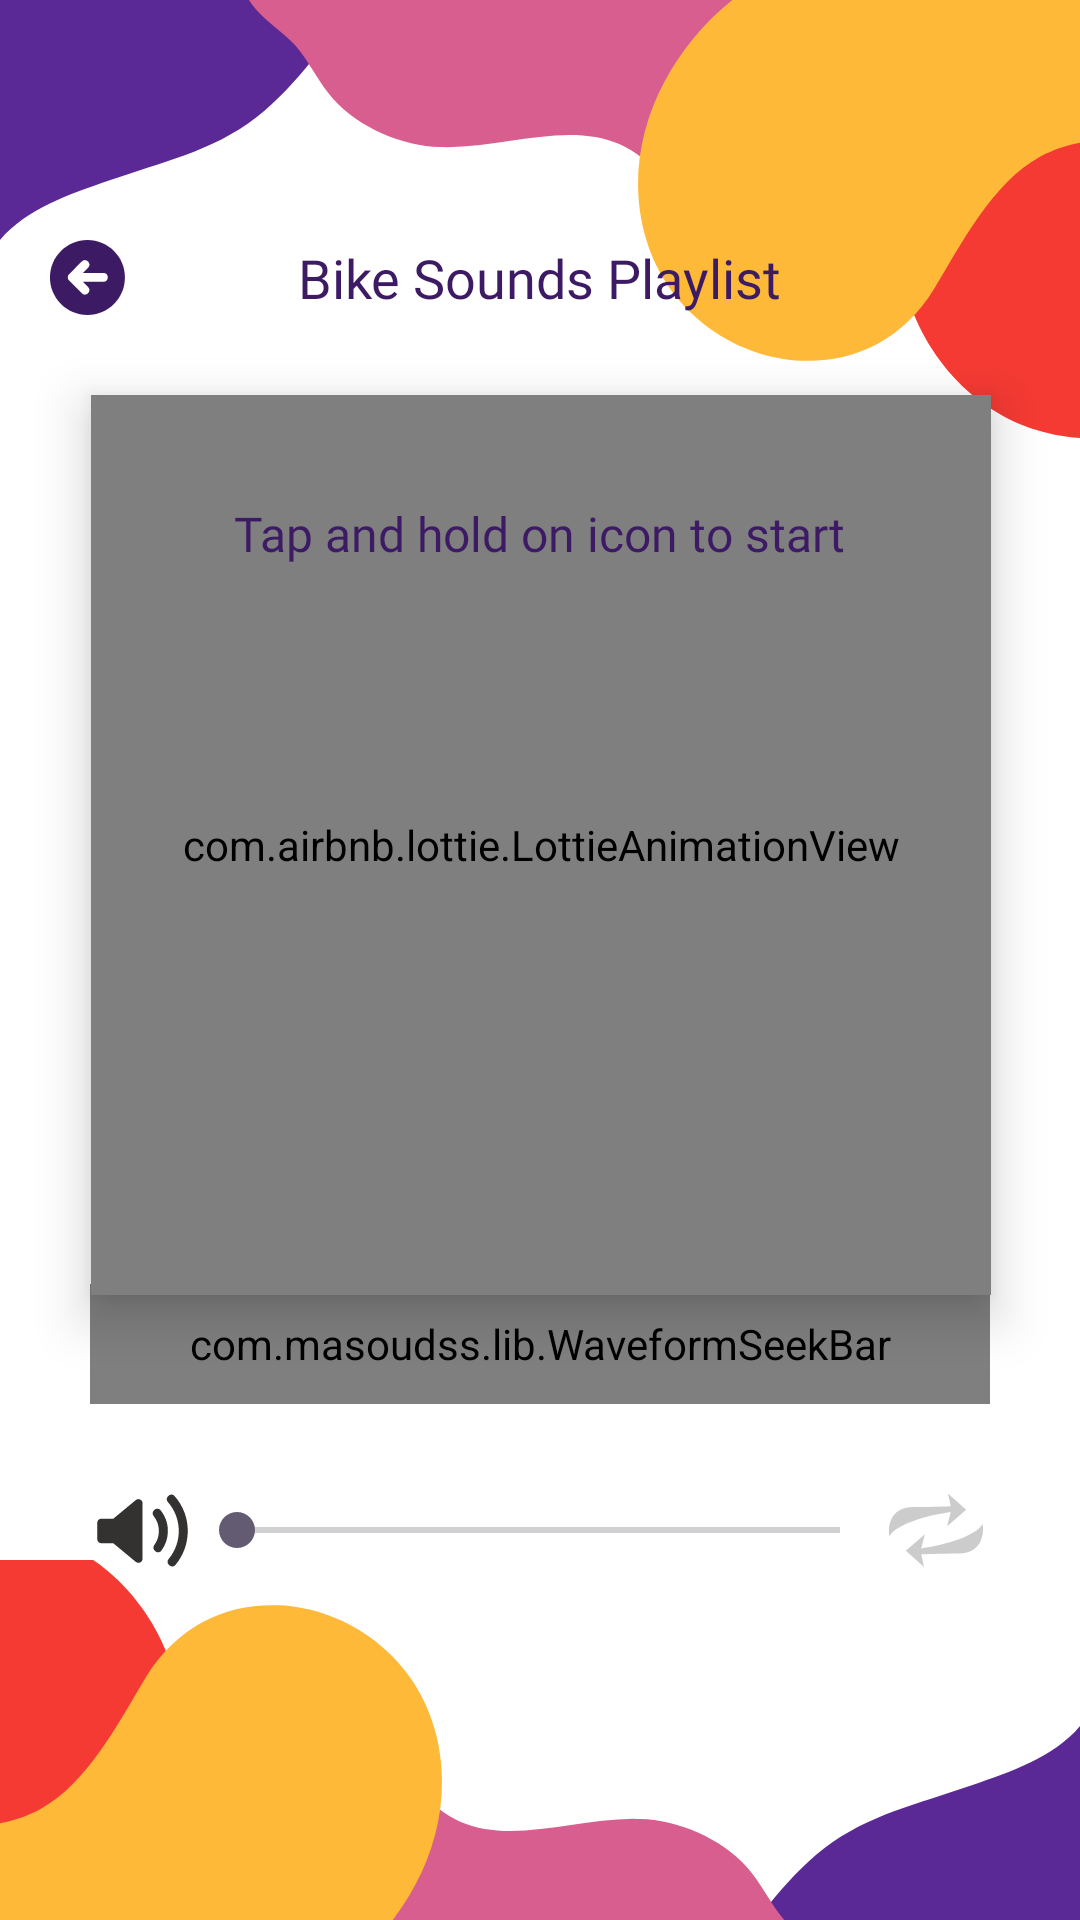

Icon bounding boxes for this 1080×1920 phone screenshot, format detection(x1, y1, x2, y2):
back: detection(50, 240, 125, 315)
dim loop: detection(889, 1494, 983, 1566)
volume: detection(97, 1494, 188, 1567)
